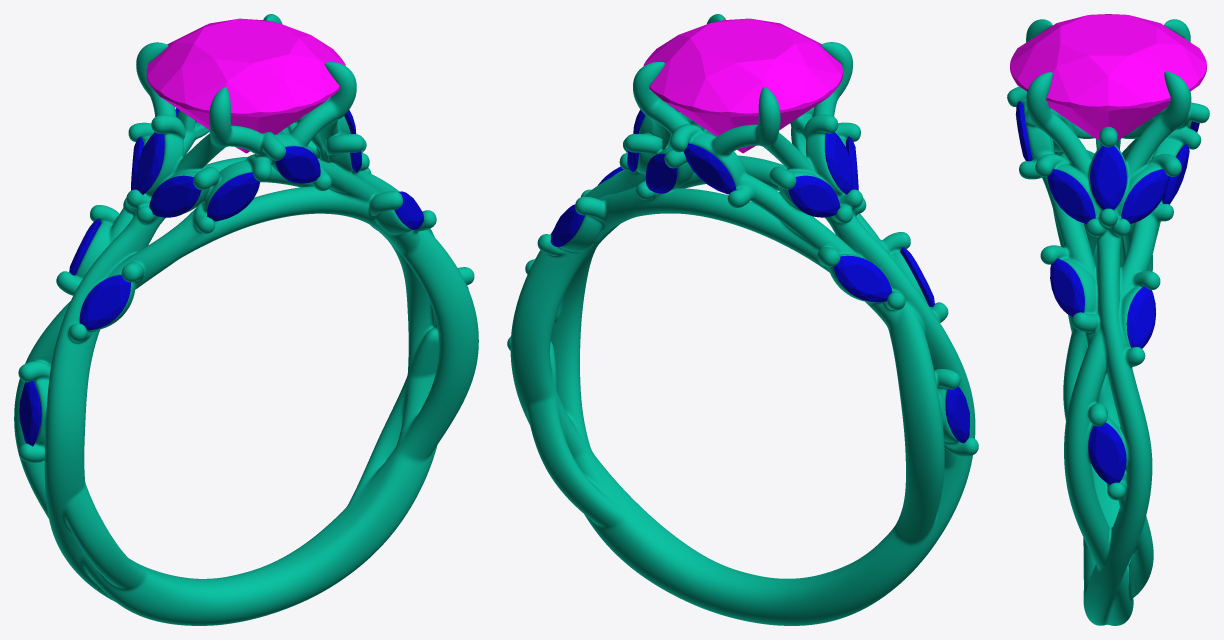
Rendered from sample.glb.
3 views of the same model, side by side, from view 1: azimuth 30°, elevation 25°; view 2: azimuth 150°, elevation 25°; view 3: azimuth 270°, elevation 25° (orthographic).
Visible parts, largest first — view 1: Metal 01, CS_Diamond_Round, Diamond_Marquise_side.004, Diamond_Marquise_side.009, Diamond_Marquise_side.011, Diamond_Marquise_side.006, Diamond_Marquise_side.008, Diamond_Marquise_side.005, Diamond_Marquise_side; view 2: Metal 01, CS_Diamond_Round, Diamond_Marquise_side.003, Diamond_Marquise_side.012, Diamond_Marquise_side.007, Diamond_Marquise_side.008, Diamond_Marquise_side.005, Diamond_Marquise_side.010, Diamond_Marquise_side.001; view 3: Metal 01, CS_Diamond_Round, Diamond_Marquise_side.013, Diamond_Marquise_side.002, Diamond_Marquise_side.014, Diamond_Marquise_side.015, Diamond_Marquise_side, Diamond_Marquise_side.001, Diamond_Marquise_side.010, Diamond_Marquise_side.006.
Boxes of the visible parts, left/top/right/bottom form: Metal 01: left=14, top=14, right=478, bottom=625; CS_Diamond_Round: left=146, top=18, right=345, bottom=153; Diamond_Marquise_side.004: left=79, top=275, right=130, bottom=330; Diamond_Marquise_side.009: left=207, top=172, right=260, bottom=221; Diamond_Marquise_side.011: left=149, top=175, right=201, bottom=217; Diamond_Marquise_side.006: left=275, top=146, right=320, bottom=183; Diamond_Marquise_side.008: left=136, top=132, right=164, bottom=194; Diamond_Marquise_side.005: left=19, top=380, right=41, bottom=446; Diamond_Marquise_side: left=394, top=191, right=423, bottom=229; Metal 01: left=507, top=14, right=978, bottom=625; CS_Diamond_Round: left=643, top=18, right=842, bottom=153; Diamond_Marquise_side.003: left=833, top=255, right=892, bottom=302; Diamond_Marquise_side.012: left=788, top=175, right=840, bottom=217; Diamond_Marquise_side.007: left=683, top=143, right=736, bottom=194; Diamond_Marquise_side.008: left=825, top=132, right=852, bottom=194; Diamond_Marquise_side.005: left=945, top=386, right=969, bottom=443; Diamond_Marquise_side.010: left=646, top=153, right=677, bottom=193; Diamond_Marquise_side.001: left=550, top=204, right=584, bottom=246; Metal 01: left=1007, top=19, right=1209, bottom=625; CS_Diamond_Round: left=1010, top=14, right=1206, bottom=140; Diamond_Marquise_side.013: left=1090, top=145, right=1126, bottom=209; Diamond_Marquise_side.002: left=1088, top=422, right=1126, bottom=484; Diamond_Marquise_side.014: left=1047, top=169, right=1095, bottom=223; Diamond_Marquise_side.015: left=1121, top=169, right=1169, bottom=223; Diamond_Marquise_side: left=1050, top=258, right=1084, bottom=316; Diamond_Marquise_side.001: left=1126, top=286, right=1155, bottom=348; Diamond_Marquise_side.010: left=1162, top=144, right=1189, bottom=204; Diamond_Marquise_side.006: left=1016, top=101, right=1032, bottom=161.
Size of the model in its own units: 21.3 by 25.43 by 8.24.
